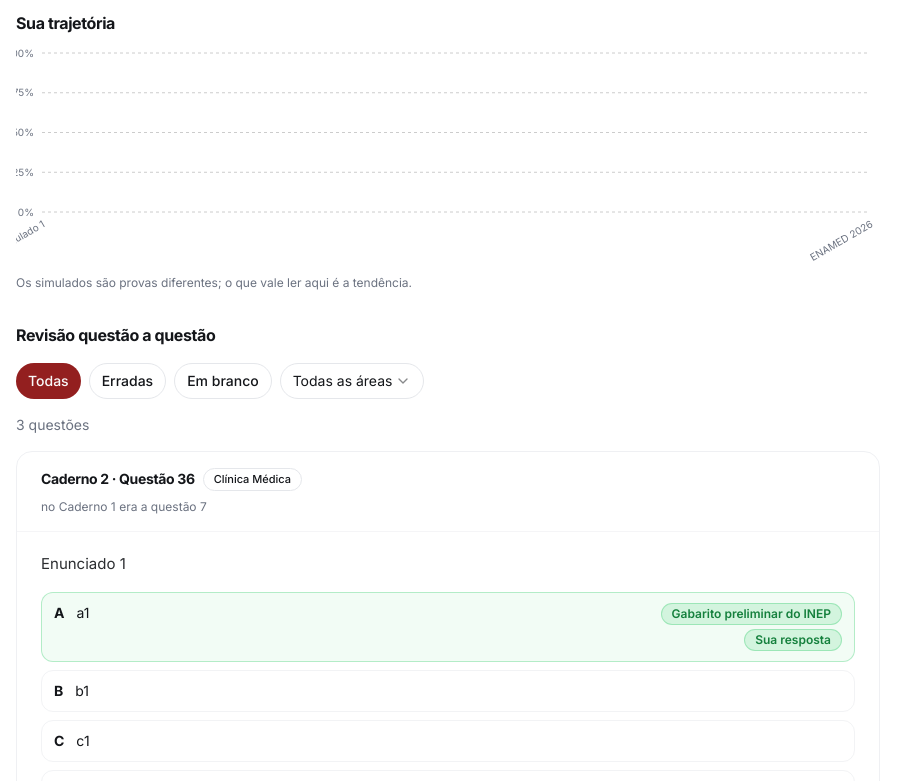
it: ProvaOficialPage › com resultado liberado, mostra cabeçalho, áreas, questões no caderno do aluno e nunca TRI/nota
(page scrolled)
Expected: the text "Caderno 2 · Questão 36" is shown, [41,469,195,489]
Expected: the text "no Caderno 1 era a questão 7" is shown, [41,498,207,514]
Filtro "Erradas" deixa só a questão 37 (errada) — some as 36 (certa) e 38 (branco).
Click the button "Erradas". click: click(127, 381)
box: [89,363,166,399]
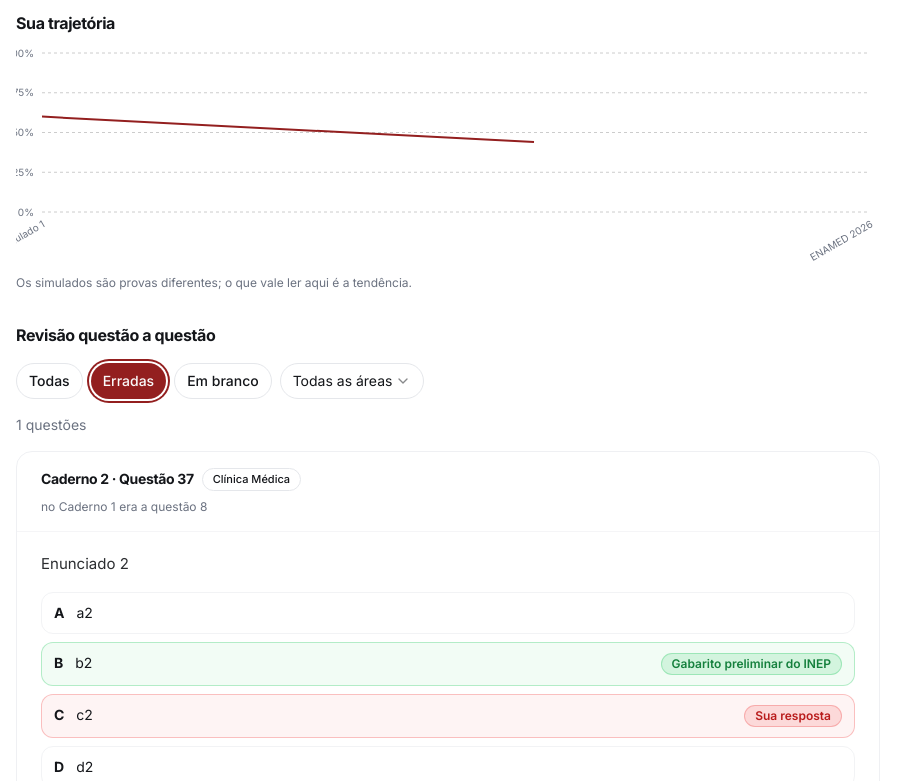
Expected: the text "Caderno 2 · Questão 37" is shown, [41,469,194,489]
Expected: the text "Caderno 2 · Questão 36" is gone
